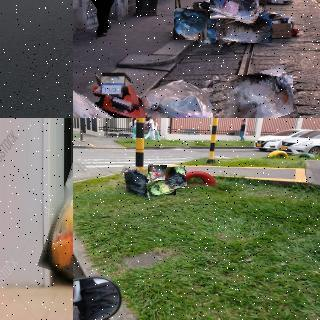Garbage: (210, 69, 295, 118), (73, 79, 163, 118), (45, 167, 73, 288), (144, 77, 222, 118), (215, 14, 273, 47), (117, 166, 157, 199), (173, 8, 208, 41), (209, 0, 260, 22), (147, 177, 177, 197), (165, 166, 186, 189), (148, 165, 167, 180)
